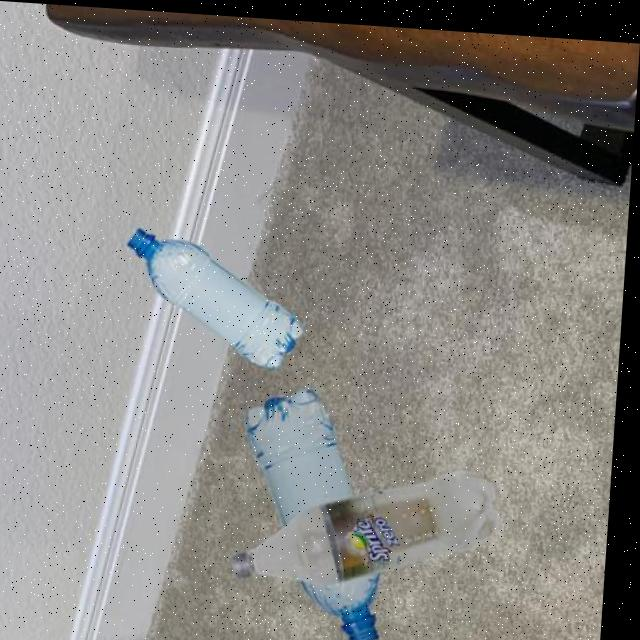bottle: (235, 379, 403, 640), (235, 451, 507, 591), (122, 225, 313, 368)
